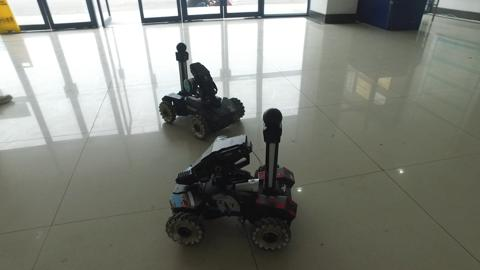chariot: (166, 107, 304, 256), (157, 40, 251, 143)
